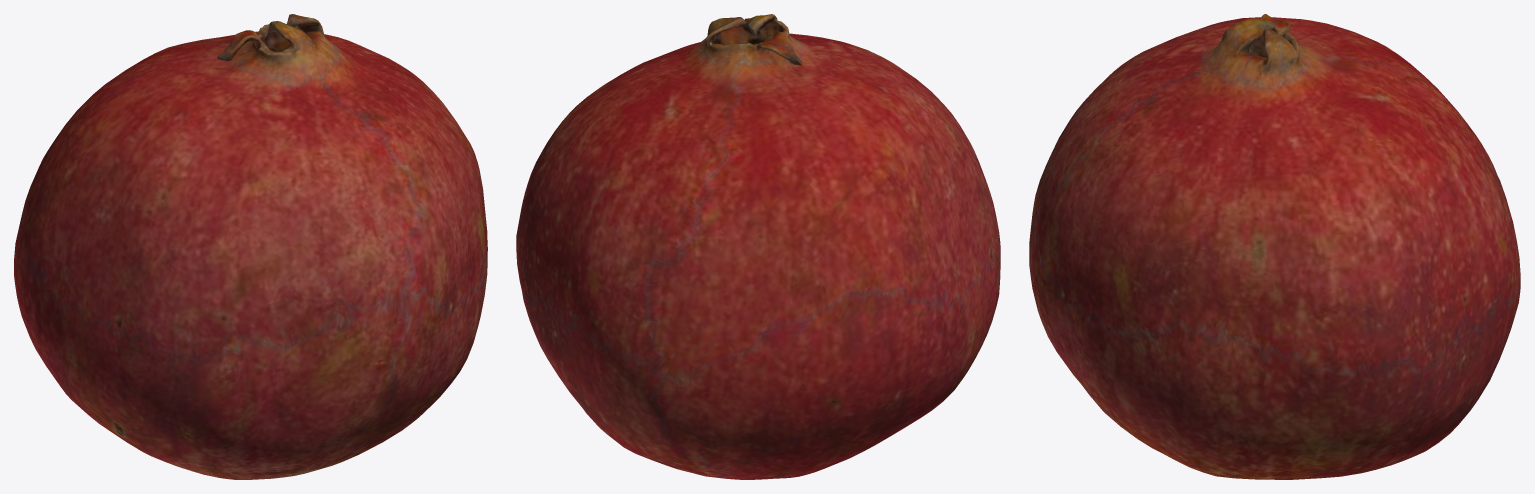
Rendered from food_pomegranate_01.glb.
The picture shows the model from 3 angles, left to right: view 1: azimuth 30°, elevation 25°; view 2: azimuth 150°, elevation 25°; view 3: azimuth 270°, elevation 25°; orthographic projection. The views are drawn at different scales.
Visible parts, largest first — view 1: food_pomegranate_01; view 2: food_pomegranate_01; view 3: food_pomegranate_01.
Part boxes in pixels (x1=…): food_pomegranate_01: x1=14, y1=14, x2=487, y2=479; food_pomegranate_01: x1=516, y1=14, x2=1000, y2=479; food_pomegranate_01: x1=1029, y1=14, x2=1520, y2=479.
Size of the model in its own units: 0.1143 by 0.115 by 0.1154.
Materials: 1 (1 with a texture image).
